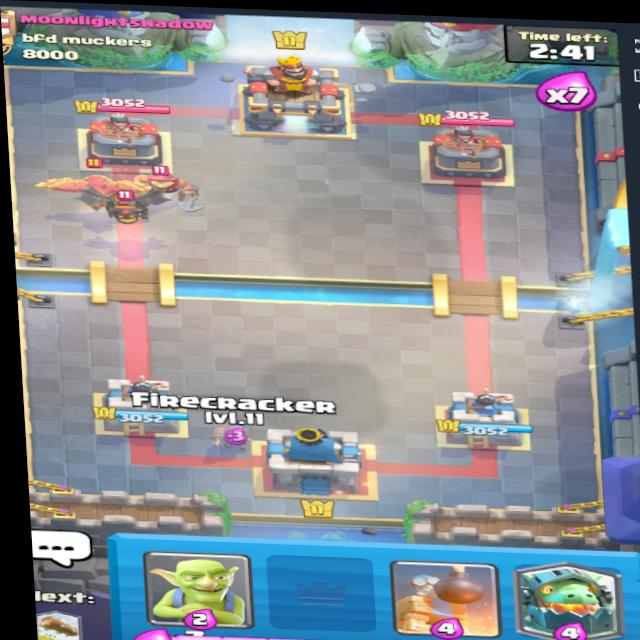Fisherman: (119, 158, 220, 211)
Lavahound: (79, 182, 171, 233)
Pheonix: (38, 149, 164, 209)
